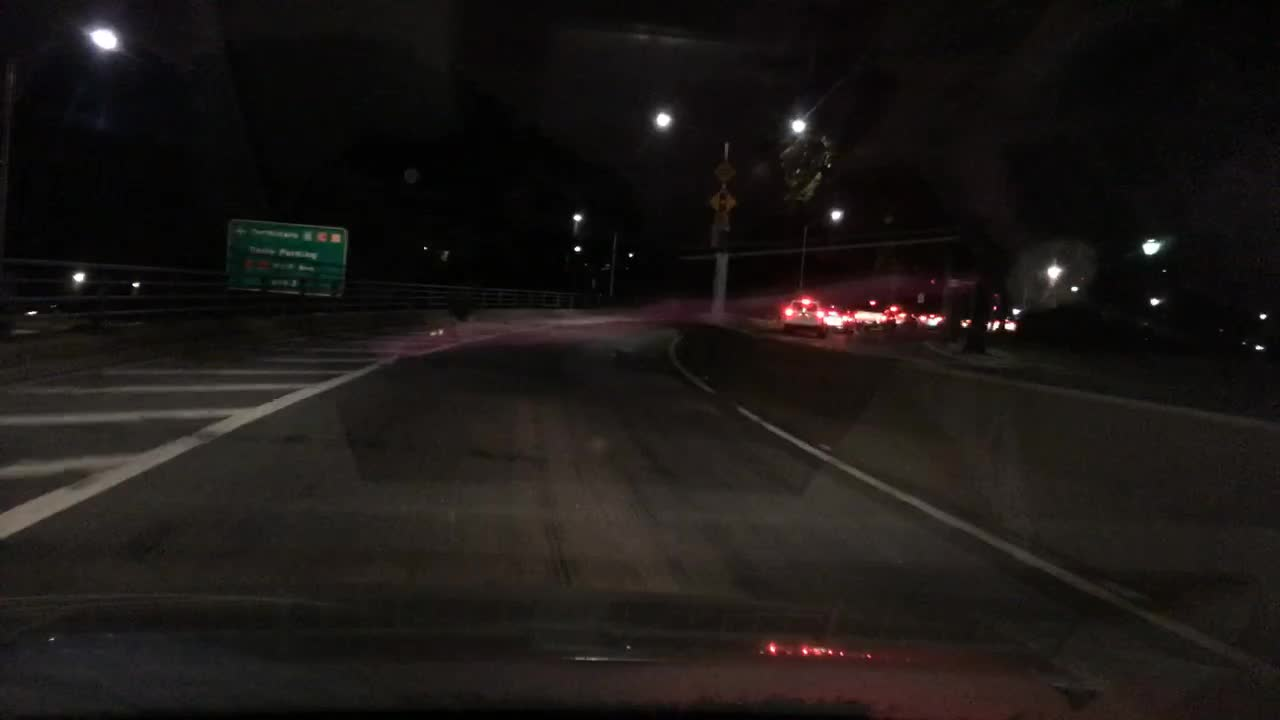car: (12, 271, 153, 330), (784, 296, 827, 335), (855, 296, 886, 327), (961, 307, 999, 330), (825, 305, 856, 333), (882, 303, 914, 328), (918, 307, 953, 329), (1000, 309, 1030, 333)
traffic light: (927, 275, 938, 289)
traffic sign: (226, 219, 348, 298), (709, 189, 737, 213), (712, 157, 735, 183), (714, 216, 735, 230), (946, 277, 960, 291), (914, 291, 927, 305)
